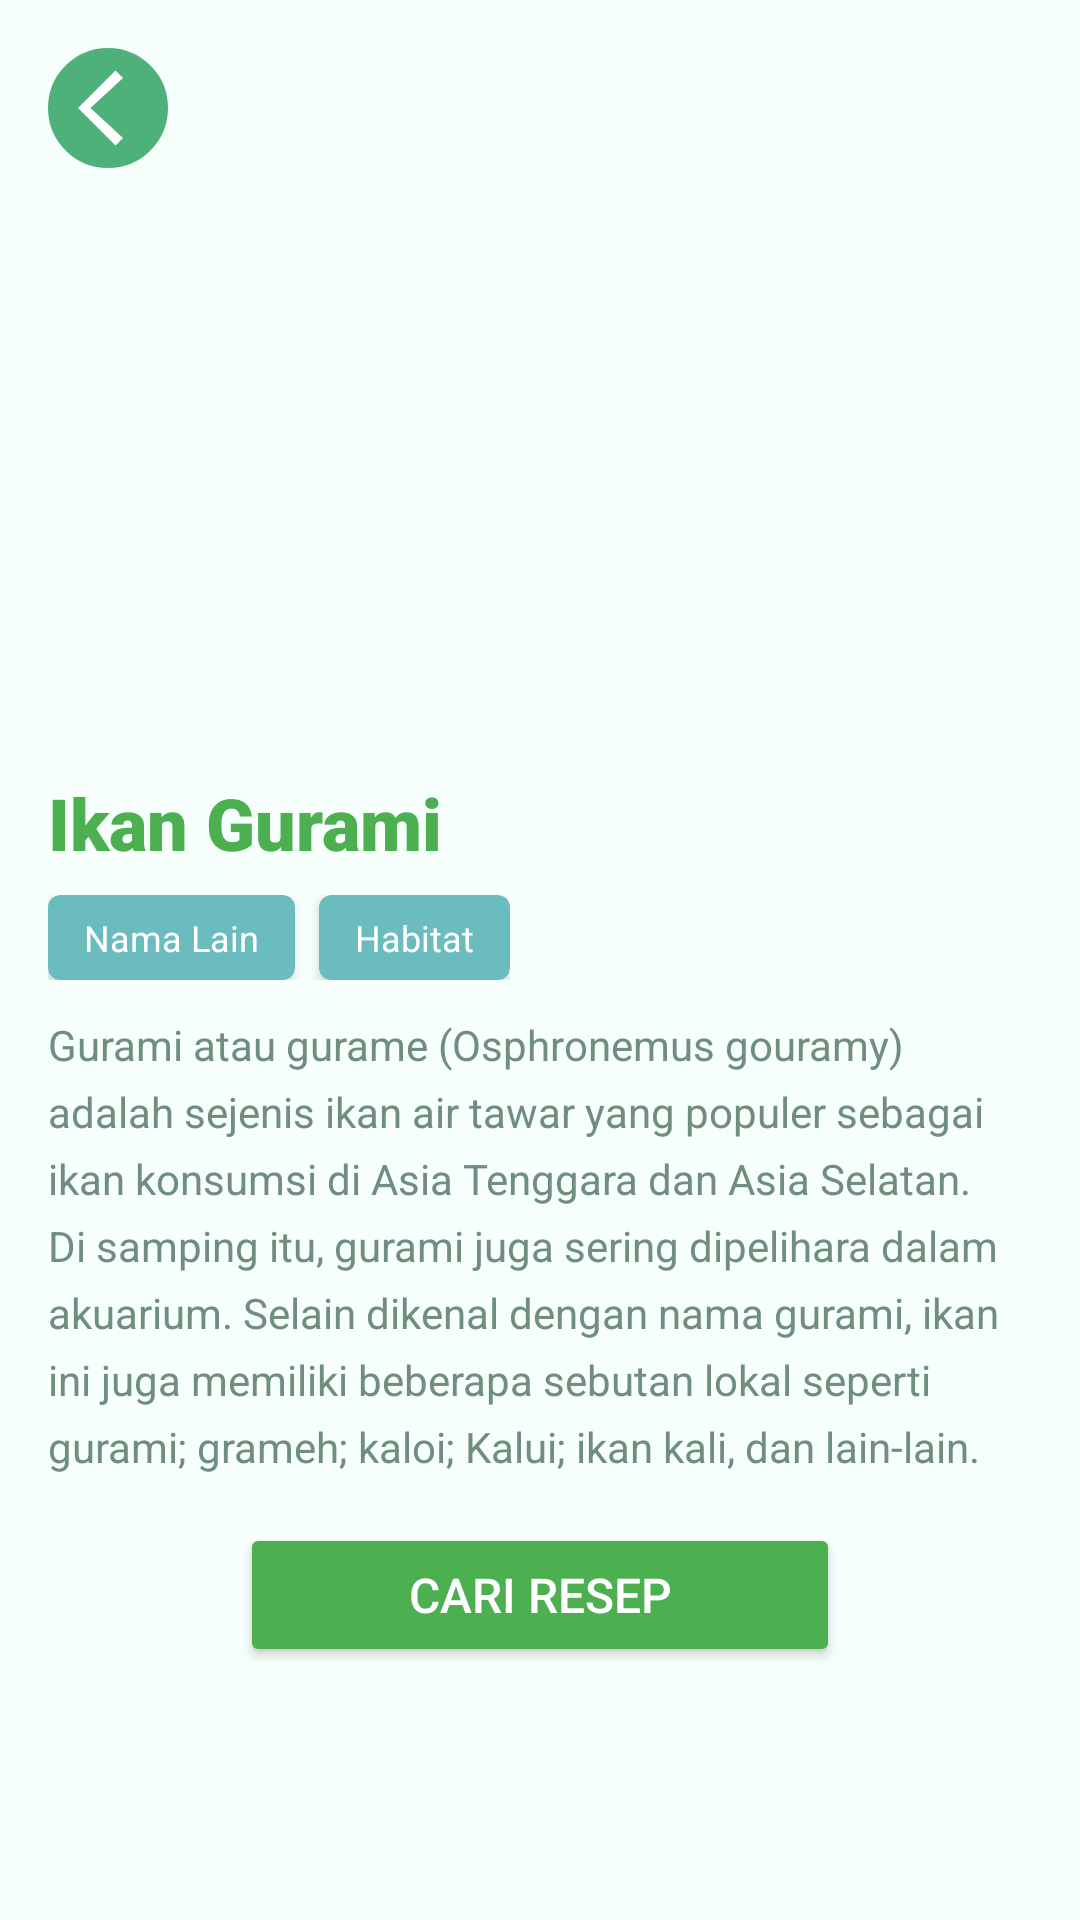

Where icons sit on this 1080 × 1920 app screen, as (x1, y1, x2, y2):
Tombol kembali: (48, 48, 168, 168)
